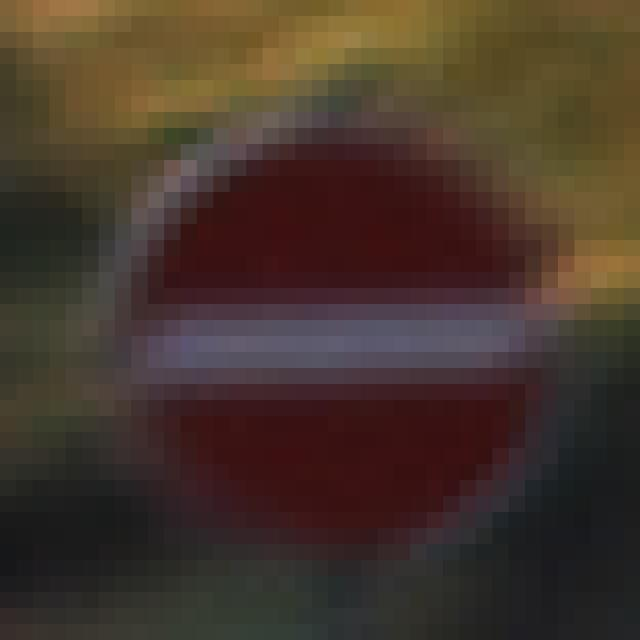No Entry: (99, 97, 559, 561)
